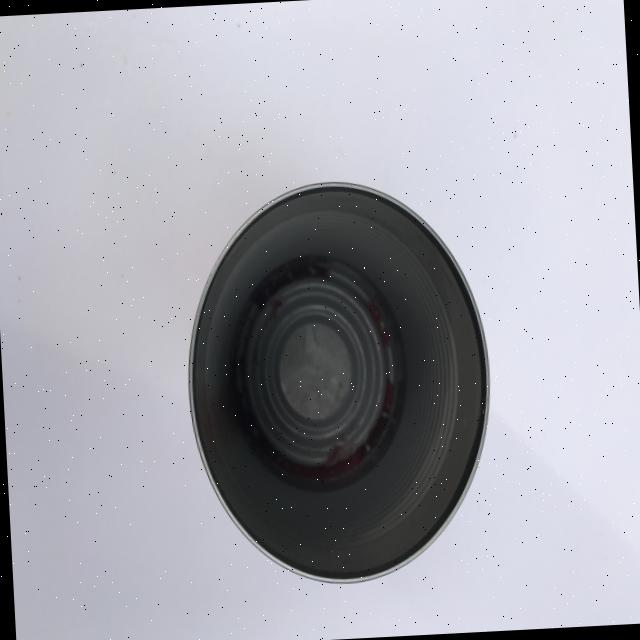metal: (178, 173, 501, 592)
